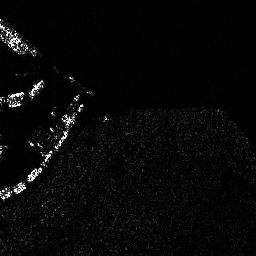ship: (1, 22, 28, 57)
